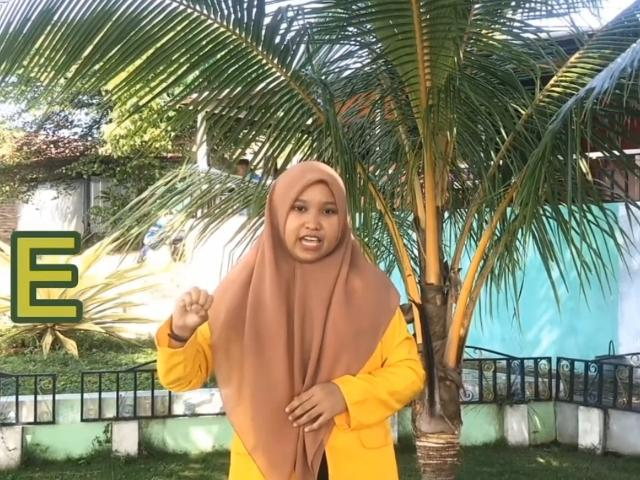E: (170, 286, 217, 334)
